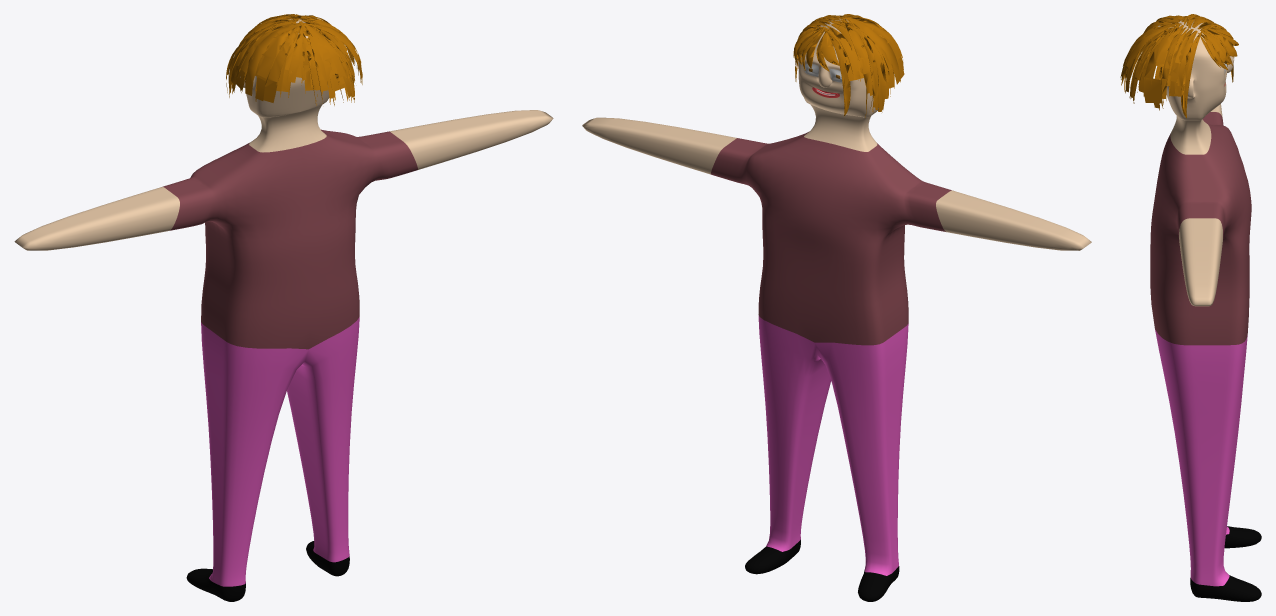
The model's file is Kind_2_T_Form.neu (2).fbx.
3 renders of one model, left to right at view 1: azimuth 30°, elevation 25°; view 2: azimuth 150°, elevation 25°; view 3: azimuth 270°, elevation 25°, orthographic. The views are drawn at different scales.
Parts seen in each view (by area): view 1: Cube, NurbsPath.001; view 2: Cube, NurbsPath.001; view 3: Cube, NurbsPath.001.
Boxes of the visible parts, <box> form: Cube: <box>14,19,553,601</box>; NurbsPath.001: <box>226,14,362,105</box>; Cube: <box>582,18,1091,601</box>; NurbsPath.001: <box>793,14,904,117</box>; Cube: <box>1150,20,1261,601</box>; NurbsPath.001: <box>1120,14,1238,118</box>.
Bounding box in the file's own units: 89.17 × 92.12 × 21.39.
